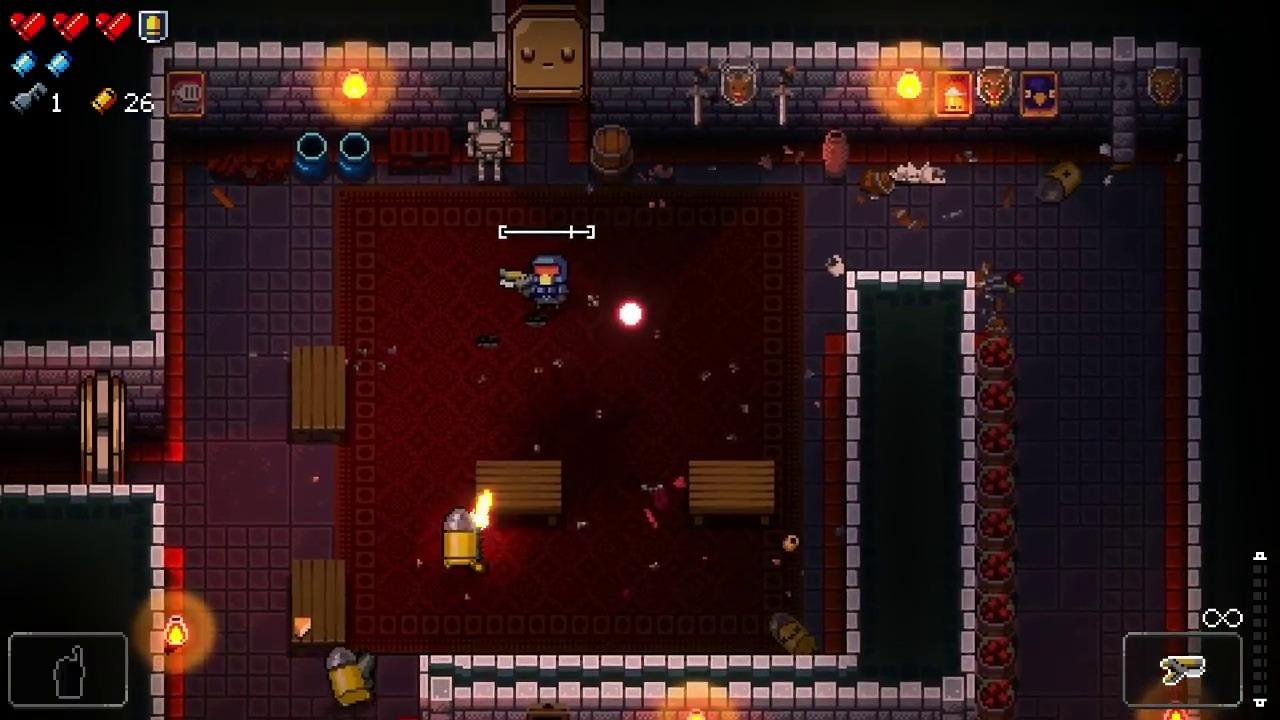bullet: (618, 300, 645, 327)
bullet_kin: (327, 645, 371, 709), (443, 507, 478, 569)
dead_bullet_kin: (768, 612, 819, 655), (1033, 159, 1082, 202)
locked_door: (507, 4, 589, 104), (80, 368, 125, 484)
player: (531, 254, 569, 312)
table: (290, 345, 347, 445), (688, 461, 775, 526), (475, 461, 562, 524), (291, 561, 345, 659)
